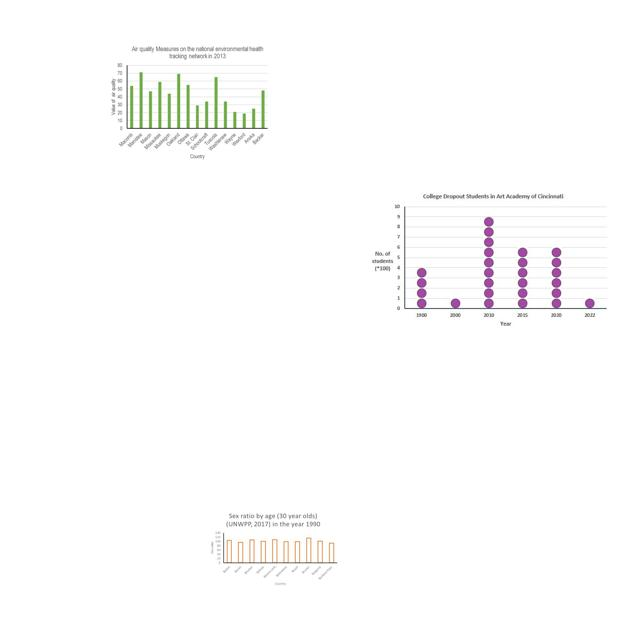Graph: (366, 189, 611, 333), (107, 44, 269, 160), (209, 511, 339, 588)
